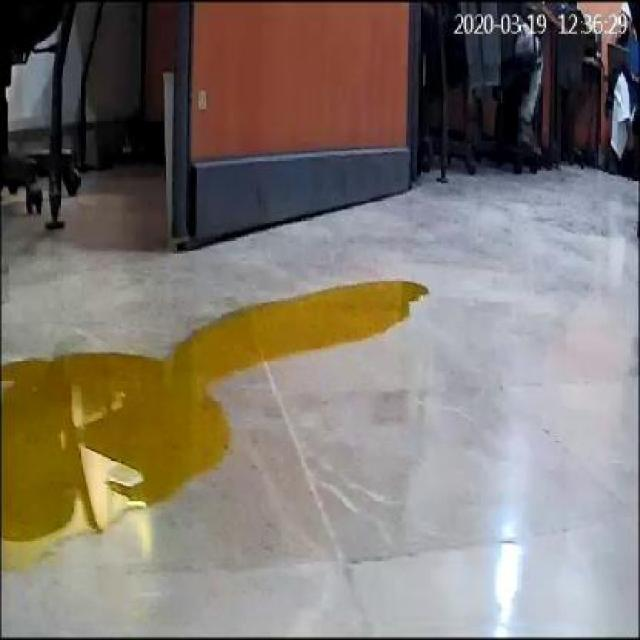spill: (2, 273, 430, 582)
